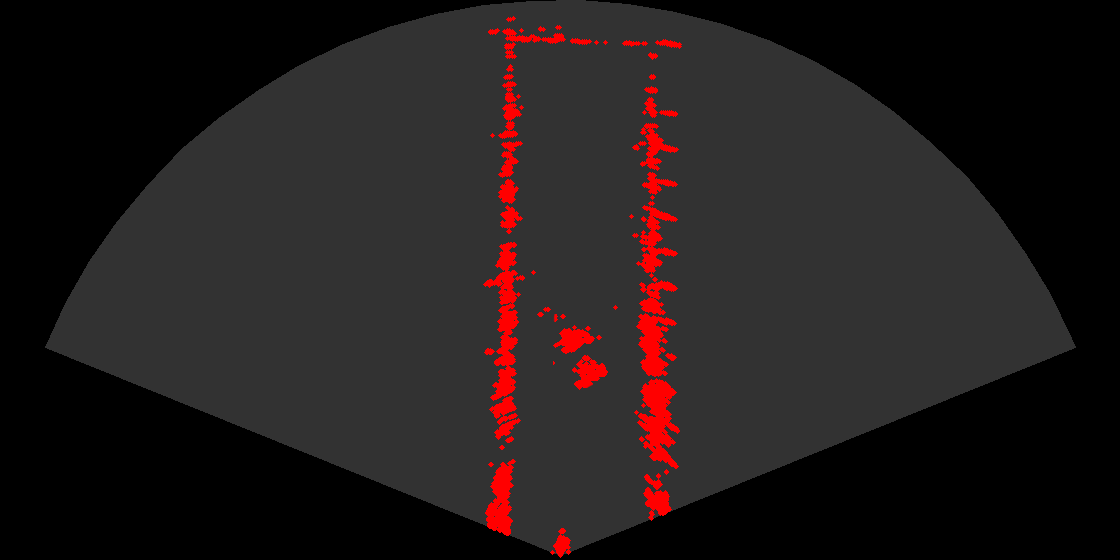cage: (553, 314, 616, 398)
